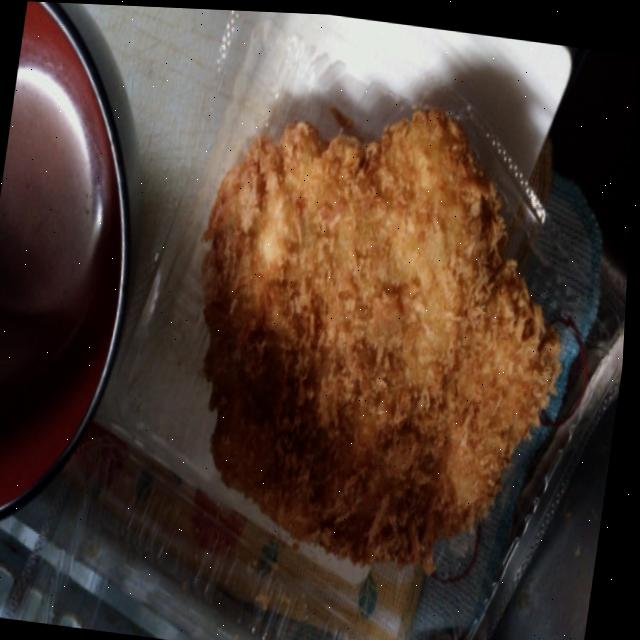鸡肉料理 含炸鸡: (144, 59, 606, 593)
